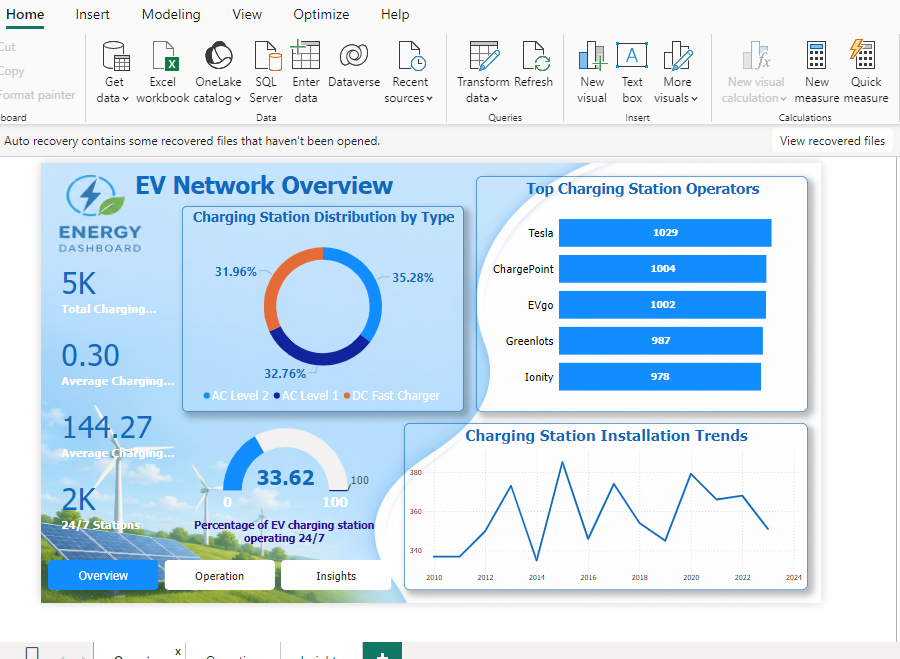

The dashboard page shown, as its layout file describes it:
{"tool":"powerbi","page":{"name":"Overview","canvas":[1280,720],"ordinal":0},"visuals":[{"type":"cardVisual","fields":{"Data":["measure data.Total Charging Station","measure data.Average Charging Cost ($/KWh)","measure data.Average Charging Capacity","measure data.24/7 Stations"]},"box":[15.6,147.4,236.7,476.2],"z":0},{"type":"donutChart","title":"Charging Station Distribution by Type ","fields":{"Category":["detailed_ev_charging_stations.Charger Type"],"Y":["measure data.Total Charging Station"]},"box":[231,70.9,462,337.3],"z":1000},{"type":"clusteredBarChart","title":"Top Charging Station Operators","fields":{"Category":["detailed_ev_charging_stations.Station Operator"],"Y":["measure data.Total Charging Station"]},"box":[712.9,21.3,544.3,386.9],"z":2000},{"type":"lineChart","title":"Charging Station Installation Trends","fields":{"Category":["detailed_ev_charging_stations.Installation Year"],"Y":["measure data.Total Charging Station"]},"box":[595.3,426.6,661.9,273.5],"z":3000},{"type":"shape","box":[109.1,0,511.7,70.9],"z":4000},{"type":"gauge","fields":{"Y":["measure data.24/7 Coverage %"],"MinValue":["measure data.Min"],"TargetValue":["measure data.Target Value"],"MaxValue":["measure data.max"]},"box":[293.4,426.6,255.1,157.3],"z":5000},{"type":"shape","box":[249.4,564.1,299.1,79.4],"z":6000},{"type":"pageNavigator","box":[11.3,650.6,564.1,49.6],"z":7000}]}

Visuals, with their boxes on the page's 1280x720 design canvas (x1, y1, x2, y2). These are canvas units, not pixel positions in the 900x659 screenshot, which may show the page scaled, cropped or inside an application window:
cardVisual - measure data.Total Charging Station x measure data.Average Charging Cost ($/KWh): bbox(16, 147, 252, 624)
"Charging Station Distribution by Type " donutChart: bbox(231, 71, 693, 408)
"Top Charging Station Operators" clusteredBarChart: bbox(713, 21, 1257, 408)
"Charging Station Installation Trends" lineChart: bbox(595, 427, 1257, 700)
shape: bbox(109, 0, 621, 71)
gauge - measure data.24/7 Coverage % x measure data.Min: bbox(293, 427, 548, 584)
shape: bbox(249, 564, 548, 644)
pageNavigator: bbox(11, 651, 575, 700)
